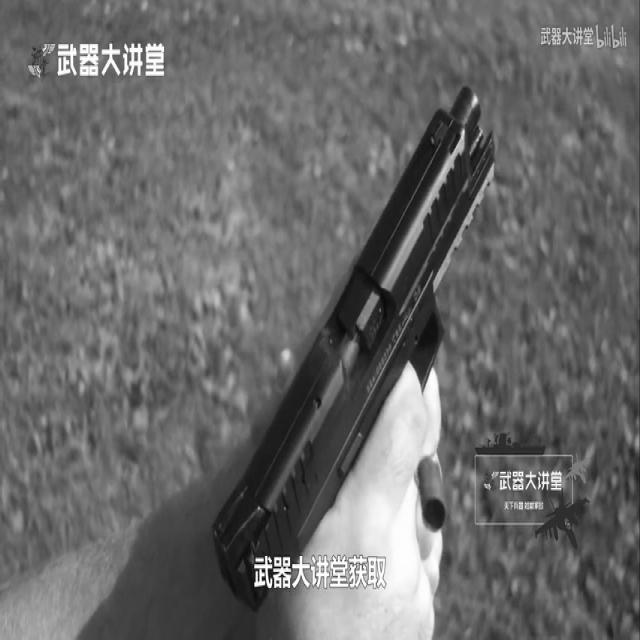Hand-Gun: (215, 0, 508, 640)
